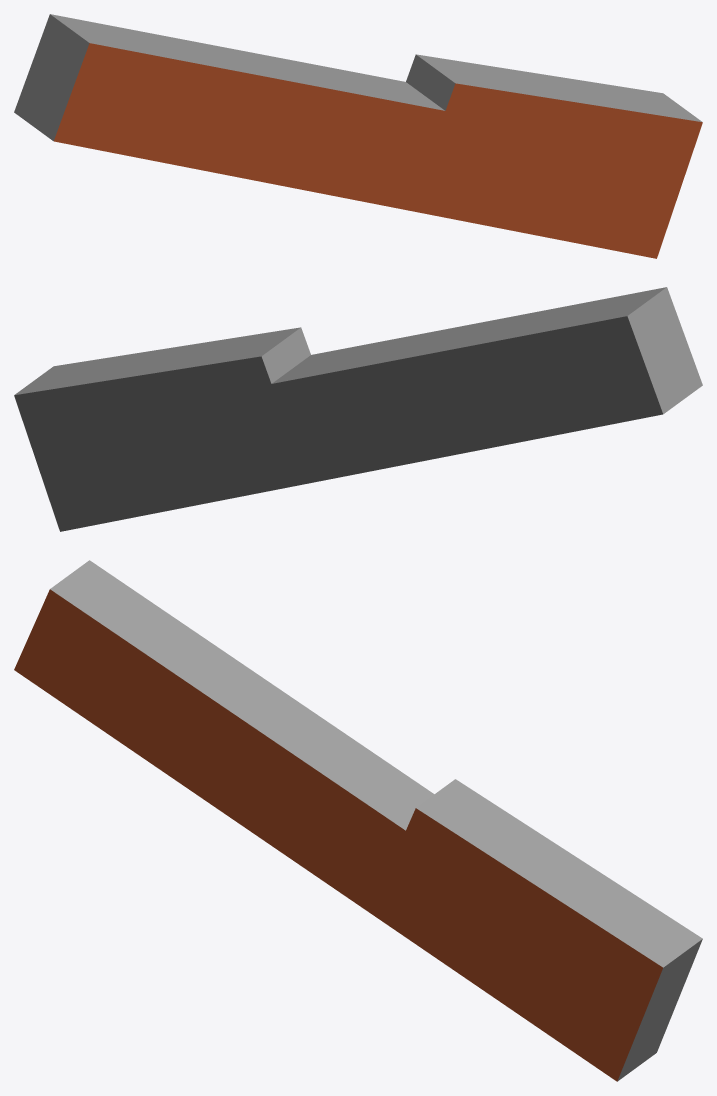
The model's file is construction_3922_assumed_A_Casa_h6m.obj.
The picture shows the model from 3 angles, top to bottom: view 1: azimuth 30°, elevation 25°; view 2: azimuth 150°, elevation 25°; view 3: azimuth 330°, elevation 25°; orthographic projection.
Parts seen in each view (by area): view 1: construction_3922_assumed_A_Casa; view 2: construction_3922_assumed_A_Casa; view 3: construction_3922_assumed_A_Casa.
Part boxes in pixels (box(x1,y1,x2,y2)): construction_3922_assumed_A_Casa: box(14, 14, 702, 258); construction_3922_assumed_A_Casa: box(14, 287, 702, 531); construction_3922_assumed_A_Casa: box(14, 560, 702, 1081).
Bounding box in the file's own units: 56.71 × 29.57 × 6.
